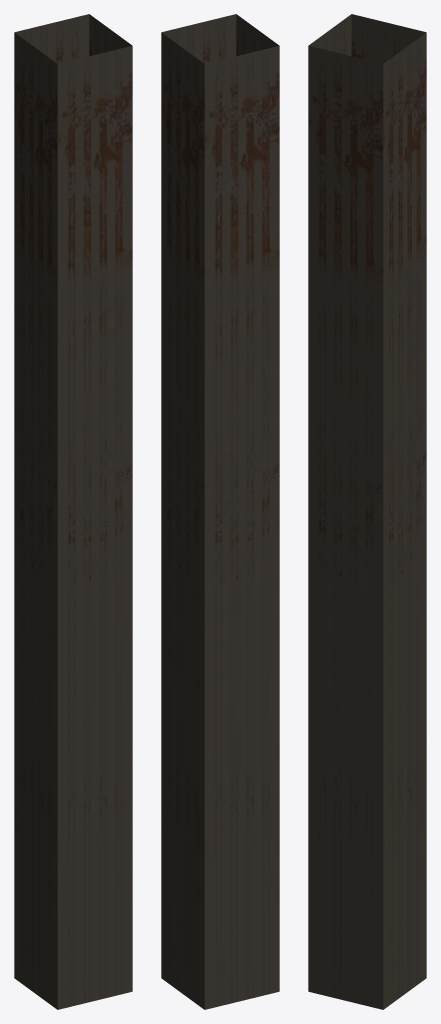
File: Metal_Column_Small_Center.glb
The picture shows the model from 3 angles, left to right: view 1: azimuth 30°, elevation 25°; view 2: azimuth 210°, elevation 25°; view 3: azimuth 330°, elevation 25°; orthographic projection.
Parts seen in each view (by area): view 1: Metal_Column_Small_Center; view 2: Metal_Column_Small_Center; view 3: Metal_Column_Small_Center.
Part boxes in pixels (box(x1,y1,x2,y2)): Metal_Column_Small_Center: box(14, 14, 132, 1009); Metal_Column_Small_Center: box(161, 14, 279, 1009); Metal_Column_Small_Center: box(308, 14, 426, 1009).
Size of the model in its own units: 0.2489 by 3 by 0.249.
Materials: 1 (1 with a texture image).
